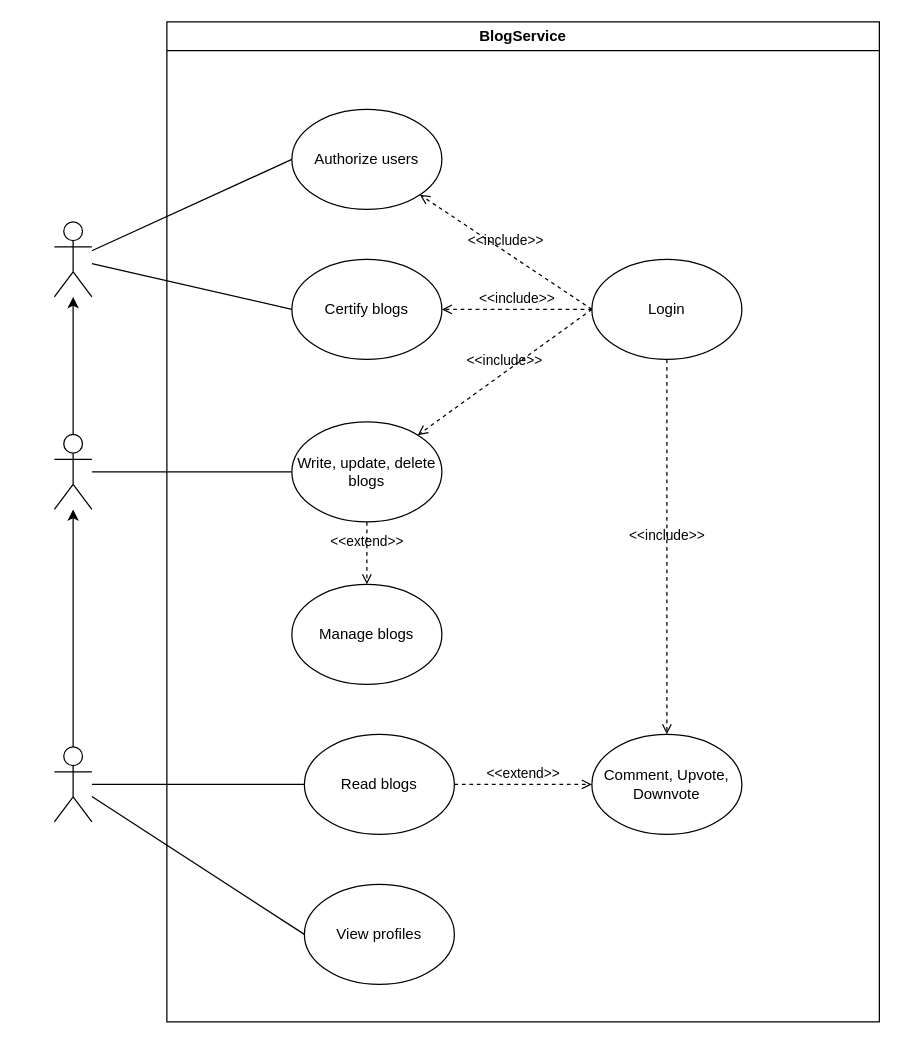
Image size: 901x1044. Some labels were removed from this diagram. The shapes that lost their labels are listed below. From the top down, each one's centre as x and y in pixels, then its label:
the point at 72,259: Admin
the point at 72,471: AuthorizedUser
the point at 72,784: User
